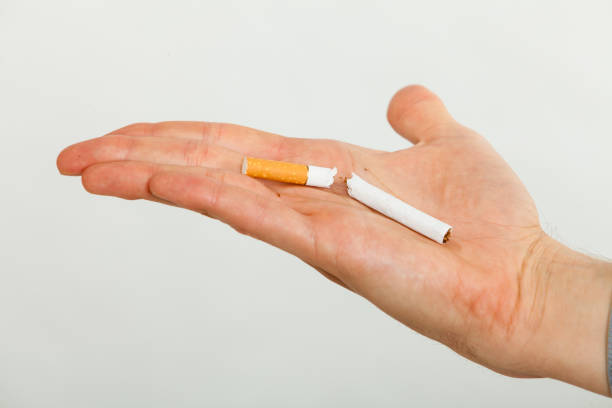cigarette: (346, 174, 455, 246), (238, 157, 338, 190)
